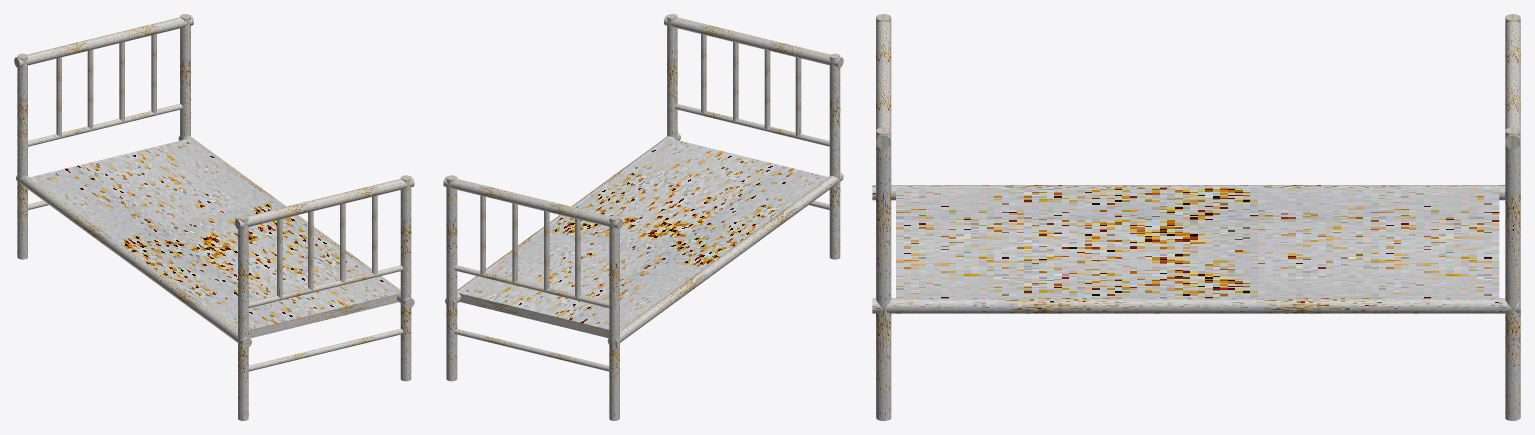
Rendered from bed_no_matras.glb.
3 renders of one model, left to right at view 1: azimuth 30°, elevation 25°; view 2: azimuth 150°, elevation 25°; view 3: azimuth 270°, elevation 25°, orthographic. The views are drawn at different scales.
Parts seen in each view (by area): view 1: Куб; view 2: Куб; view 3: Куб.
Boxes of the visible parts, box(x1,y1,x2,y2) form: Куб: box(14, 14, 414, 420); Куб: box(443, 14, 843, 420); Куб: box(872, 14, 1520, 420).
Size of the model in its own units: 5.51 by 6.08 by 12.44.
Materials: 1 (1 with a texture image).
